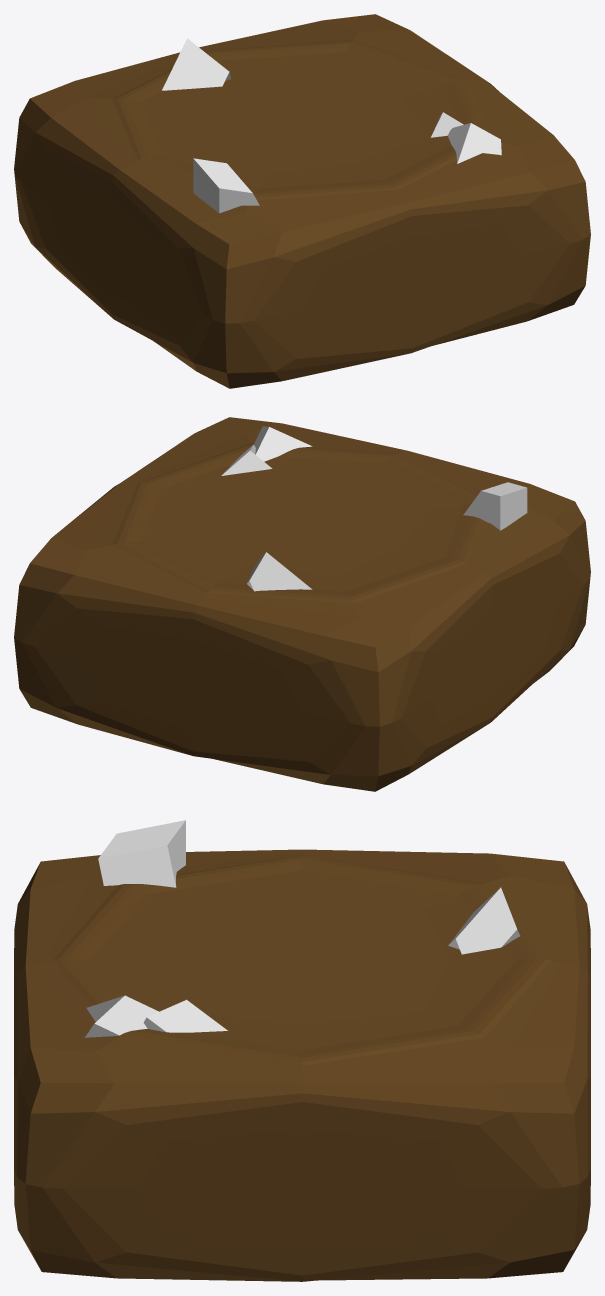
File: Floor 2.fbx
3 views of the same model, one above another, from view 1: azimuth 30°, elevation 25°; view 2: azimuth 150°, elevation 25°; view 3: azimuth 270°, elevation 25° (orthographic). The views are drawn at different scales.
Visible parts, largest first — view 1: Cube, Cube.002, Cube.003, Cube.005; view 2: Cube, Cube.002, Cube.003, Cube.005, Cube.004; view 3: Cube, Cube.002, Cube.003, Cube.005, Cube.004.
Boxes of the visible parts, bbox=[...] form: Cube: bbox=[14, 14, 590, 388]; Cube.002: bbox=[193, 158, 259, 213]; Cube.003: bbox=[162, 38, 230, 90]; Cube.005: bbox=[448, 123, 501, 163]; Cube: bbox=[14, 417, 590, 791]; Cube.002: bbox=[463, 482, 527, 530]; Cube.003: bbox=[246, 552, 312, 591]; Cube.005: bbox=[254, 426, 312, 461]; Cube.004: bbox=[221, 444, 272, 475]; Cube: bbox=[14, 849, 590, 1281]; Cube.002: bbox=[98, 820, 185, 887]; Cube.003: bbox=[448, 887, 520, 954]; Cube.005: bbox=[85, 995, 158, 1037]; Cube.004: bbox=[143, 999, 227, 1032].
Size of the model in its own units: 500 by 247 by 500.
Materials: 1 (1 with a texture image).
